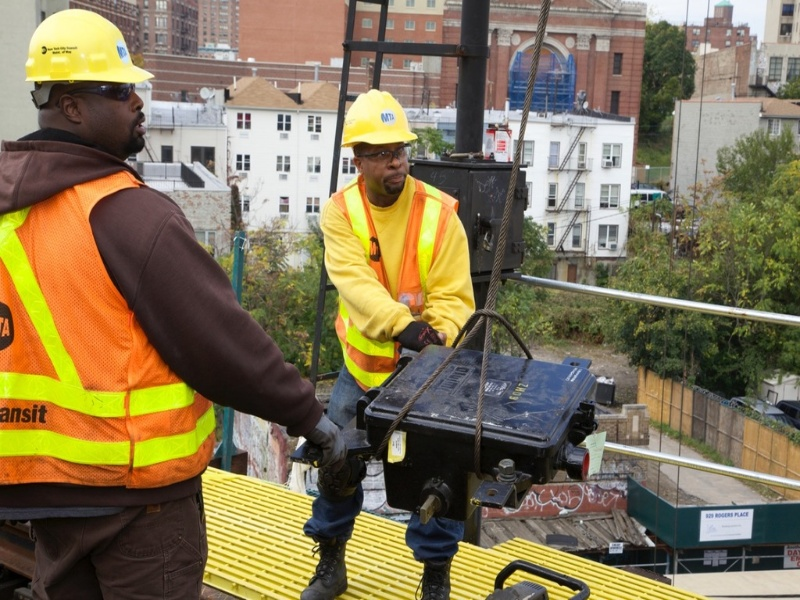Baret: (24, 9, 153, 84), (337, 88, 421, 144)
Gozluk: (358, 146, 413, 159)
